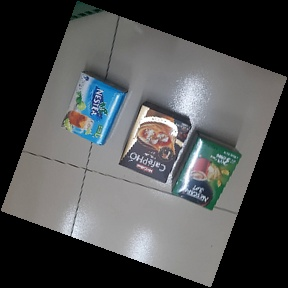CF pho: (118, 101, 193, 185)
Nes Rang: (171, 130, 241, 210)
Nestea: (60, 70, 130, 147)
